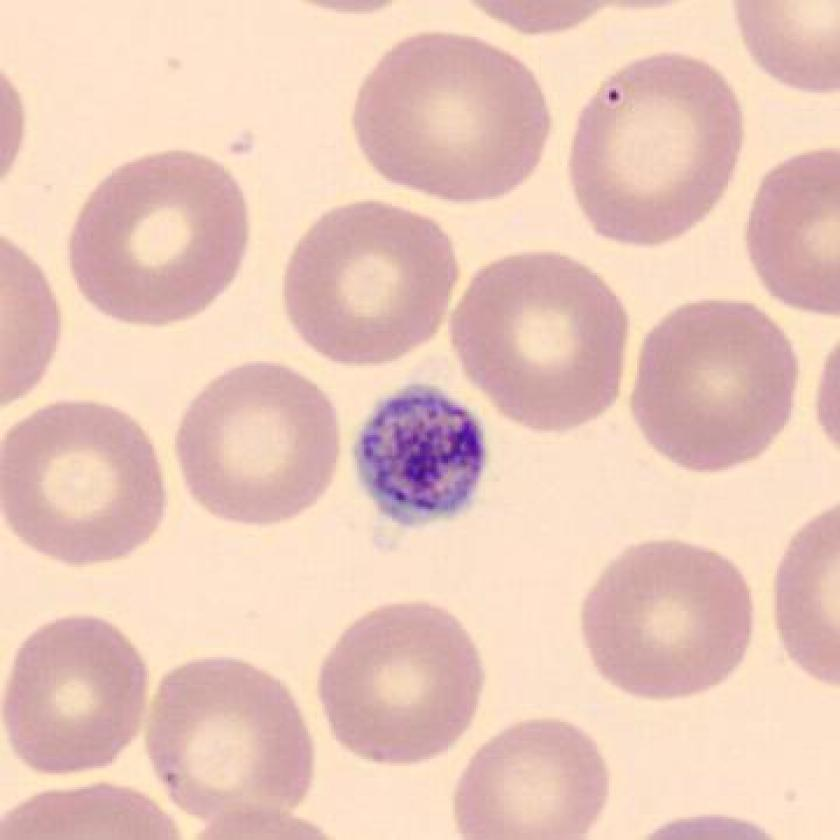platelets: (349, 378, 496, 538)
